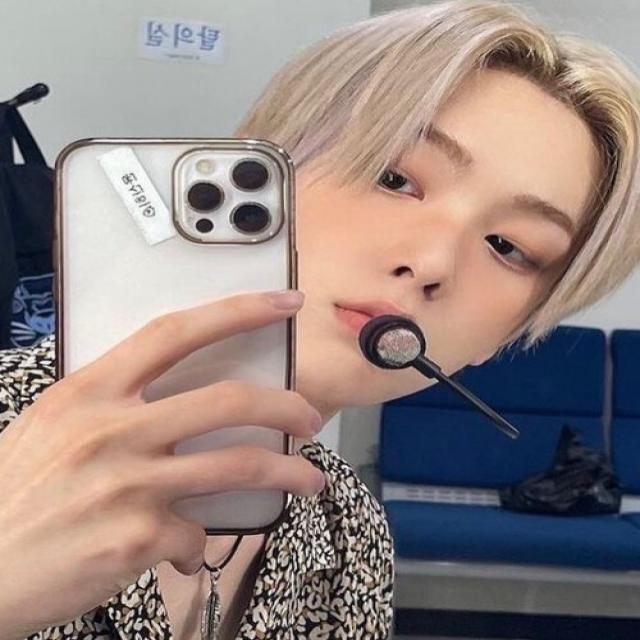phone: (56, 136, 296, 535)
